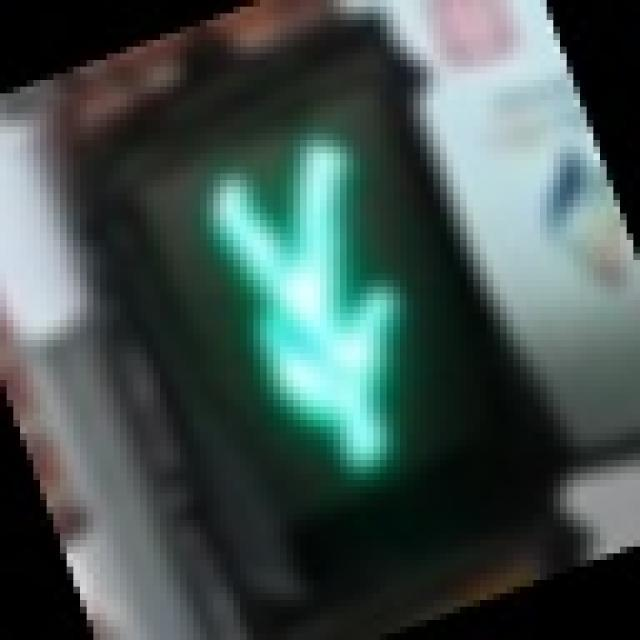geen-crossing: (113, 66, 507, 554)
